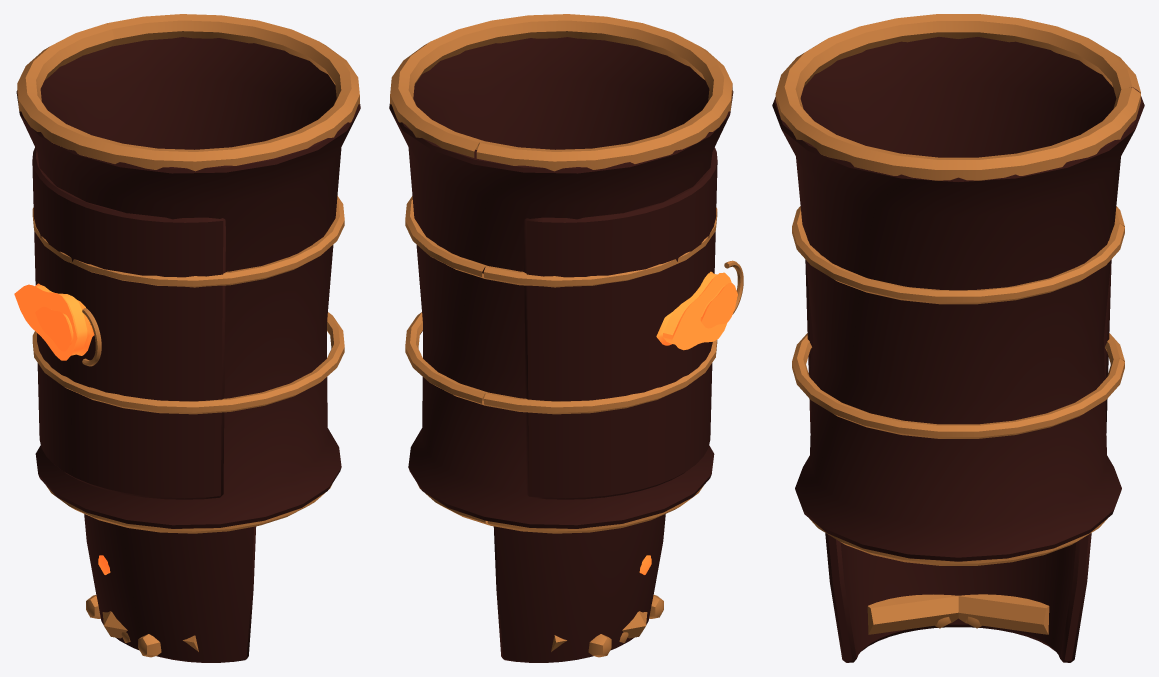
File: asc_titanblood_champion_gloves_R.glb
3 views of the same model, side by side, from view 1: azimuth 30°, elevation 25°; view 2: azimuth 150°, elevation 25°; view 3: azimuth 270°, elevation 25° (orthographic). The views are drawn at different scales.
Visible parts, largest first — view 1: asc_titanblood_champion_gloves, AT_hand_R; view 2: asc_titanblood_champion_gloves, AT_hand_R; view 3: asc_titanblood_champion_gloves, AT_hand_R.
Boxes of the visible parts, <box> form: asc_titanblood_champion_gloves: <box>14,14,360,533</box>; AT_hand_R: <box>84,514,256,662</box>; asc_titanblood_champion_gloves: <box>389,14,743,533</box>; AT_hand_R: <box>493,514,665,662</box>; asc_titanblood_champion_gloves: <box>772,14,1144,565</box>; AT_hand_R: <box>825,533,1091,662</box>.
Size of the model in its own units: 0.1971 by 0.3408 by 0.2004.
